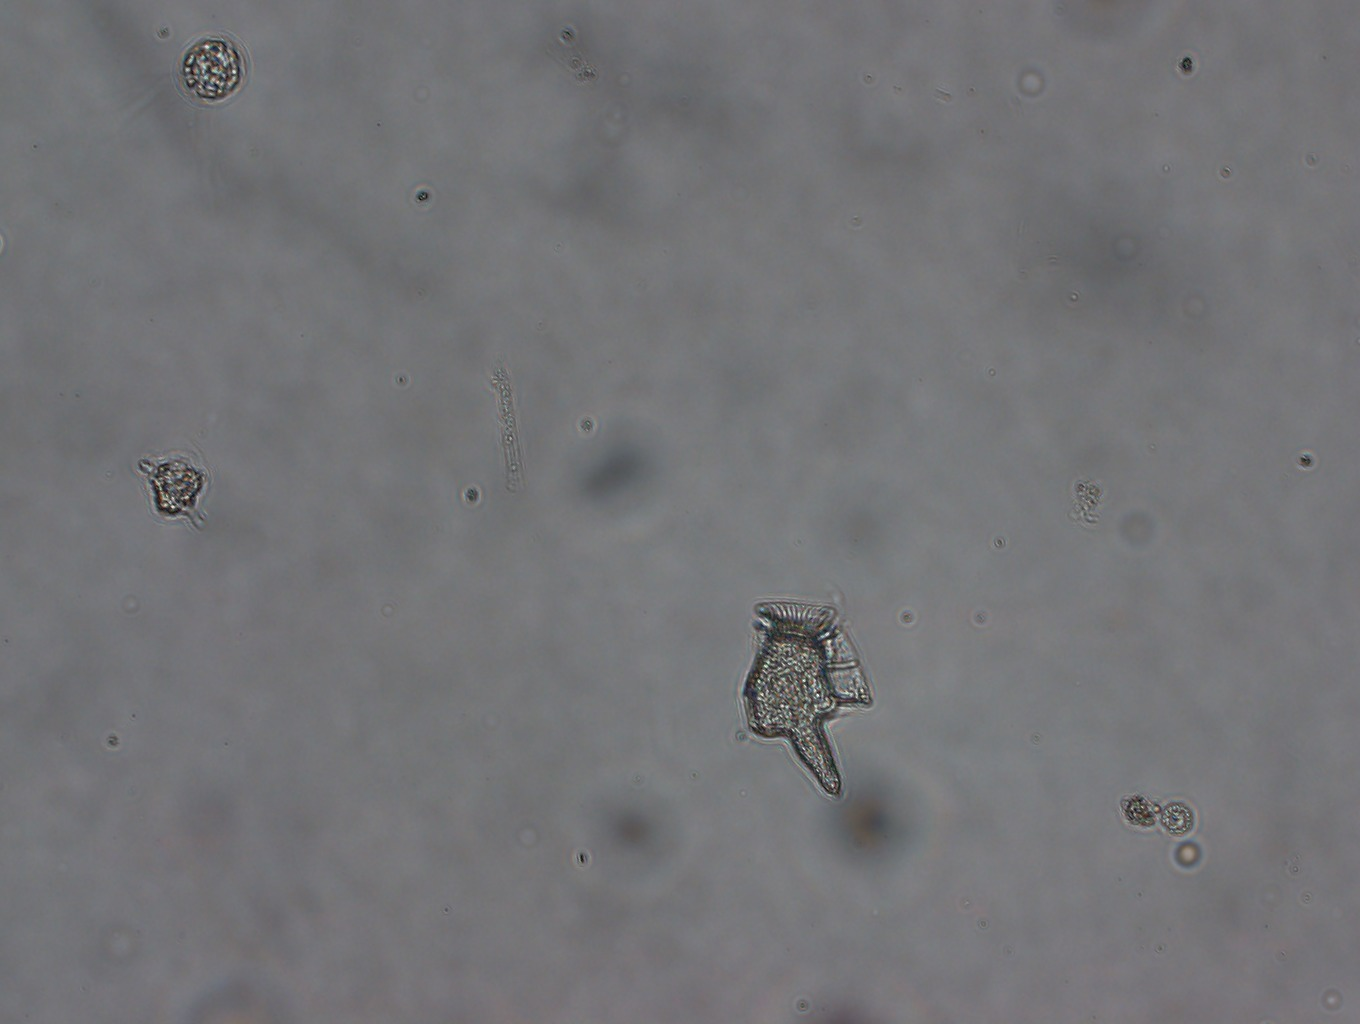dinophysis caudata: (738, 599, 874, 800)
